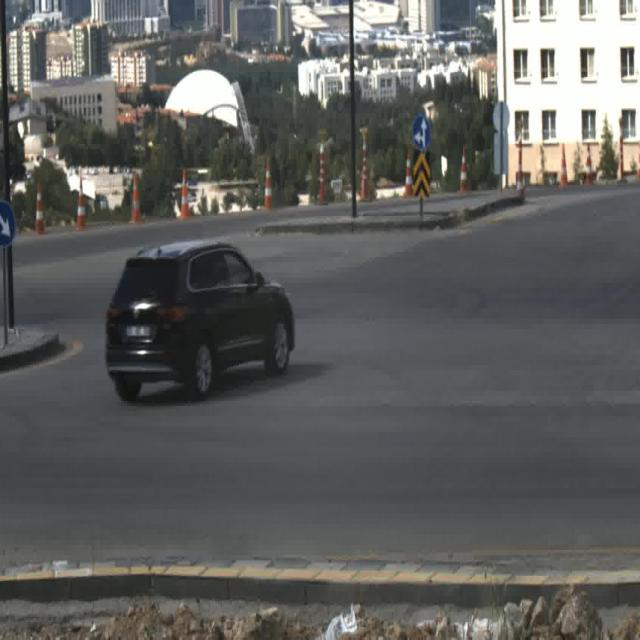Car: (104, 239, 296, 404)
